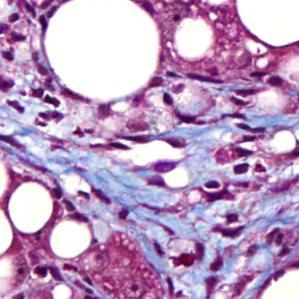steatosis: (45, 1, 164, 102), (5, 181, 53, 233), (52, 218, 88, 259)
